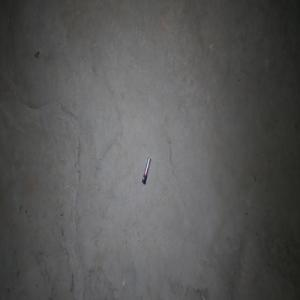Battery: (141, 156, 151, 184)
